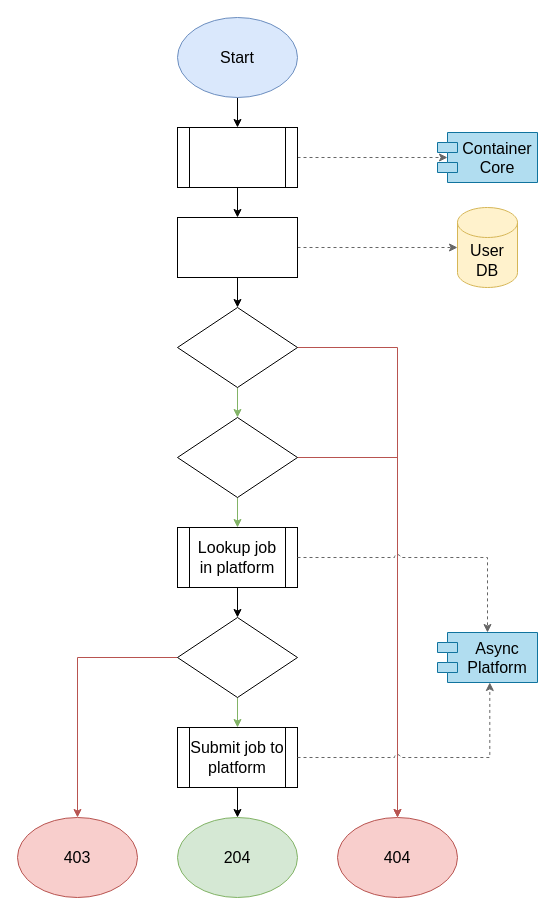
Image size: 555x915. Some labels were removed from this diagram. Each missing label, with the centre of its shape:
"Does job exist?" belongs at (x=237, y=347).
"Is job status 'expired'?" belongs at (x=237, y=657).
"Is user linked to job?" belongs at (x=237, y=457).
"Lookup job in user DB" belongs at (x=237, y=247).
"Lookup request user" belongs at (x=237, y=157).
